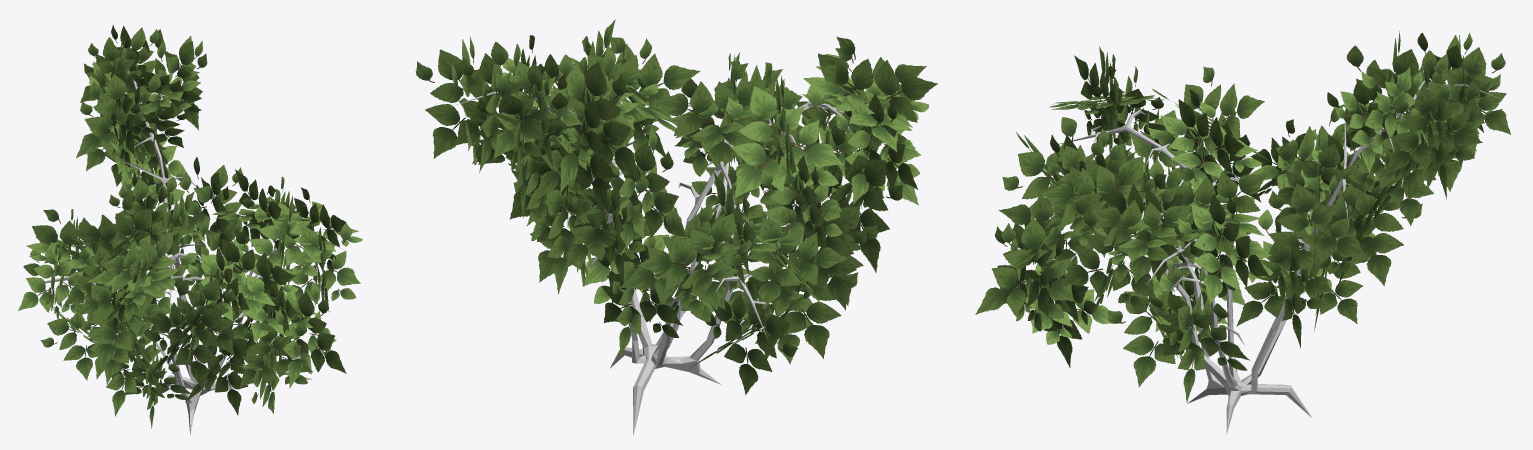
Rendered from SM_Raspberry.fbx.
3 renders of one model, left to right at view 1: azimuth 30°, elevation 25°; view 2: azimuth 150°, elevation 25°; view 3: azimuth 270°, elevation 25°, orthographic. The views are drawn at different scales.
Visible parts, largest first — view 1: SM_Raspberry; view 2: SM_Raspberry; view 3: SM_Raspberry.
Part boxes in pixels (x1,y1,x2,y2): SM_Raspberry: [18, 25, 362, 434]; SM_Raspberry: [415, 19, 937, 434]; SM_Raspberry: [975, 31, 1511, 434].
Bounding box in the file's own units: 103 × 109 × 137.
